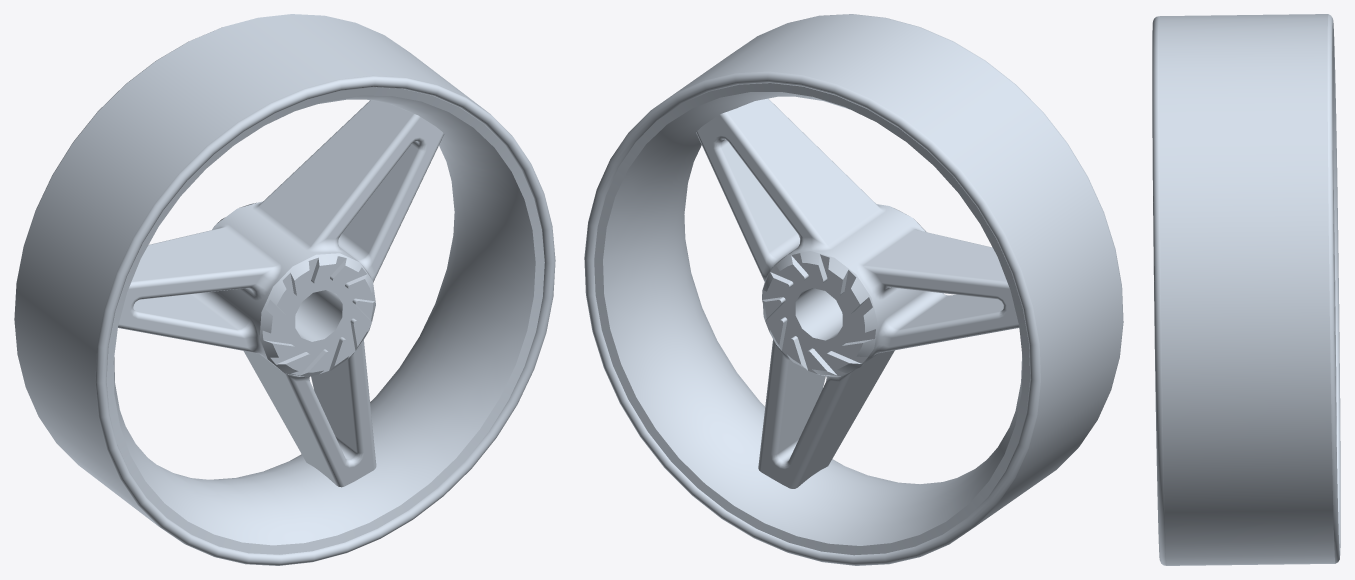
File: RB-038_viewer.glb
3 renders of one model, left to right at view 1: azimuth 30°, elevation 25°; view 2: azimuth 150°, elevation 25°; view 3: azimuth 270°, elevation 25°, orthographic. The views are drawn at different scales.
Visible parts, largest first — view 1: basebody_imported1; view 2: basebody_imported1; view 3: basebody_imported1.
Boxes of the visible parts, <box> form: basebody_imported1: <box>14,14,555,565</box>; basebody_imported1: <box>584,14,1123,565</box>; basebody_imported1: <box>1152,14,1340,565</box>.
Bounding box in the file's own units: 0.0271 × 0.0271 × 0.00927.
